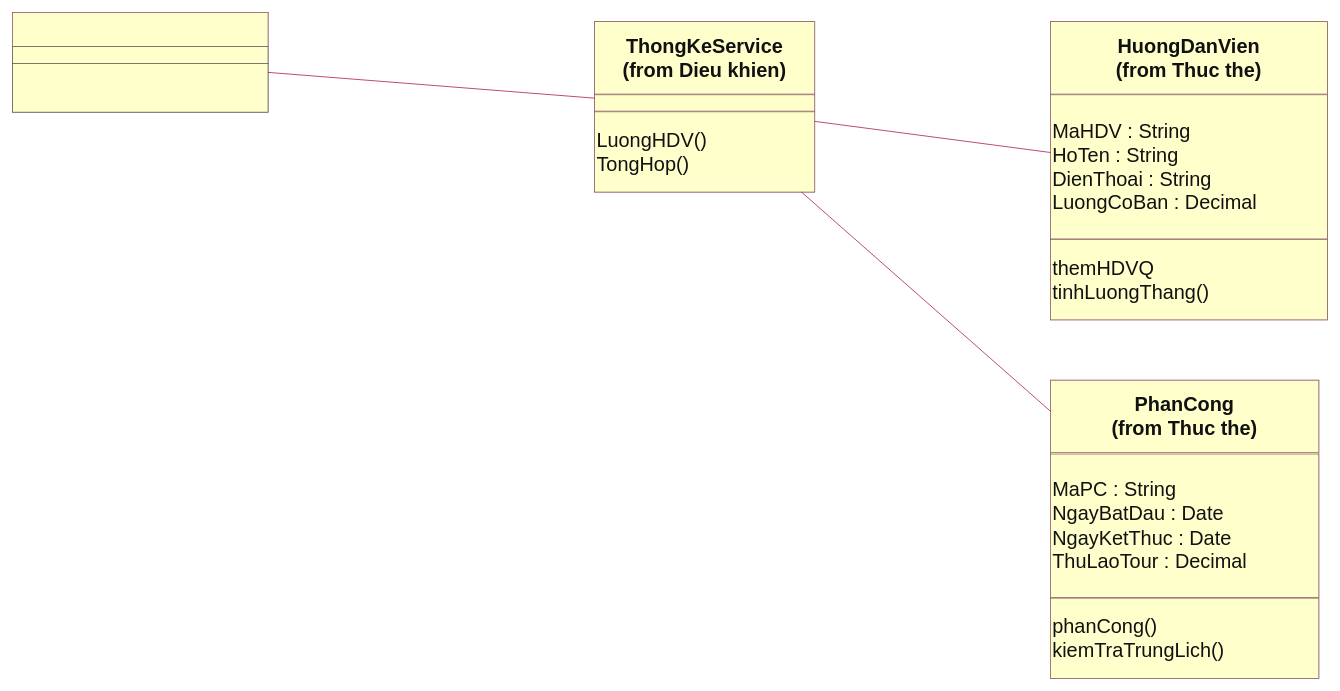
The diagram is 1340 pixels wide and 691 high, and some of its shapes have lost their labels. The shapes that lost their labels are listed below. From the top down, each one's centre as x and y in pixels, then its label:
At point 140,29: "«boundary» FrmLuongThongKe".
At point 140,87: "FrmLuongThongKe_Load() btnLuong_Click() btnTongHop_Click()".
